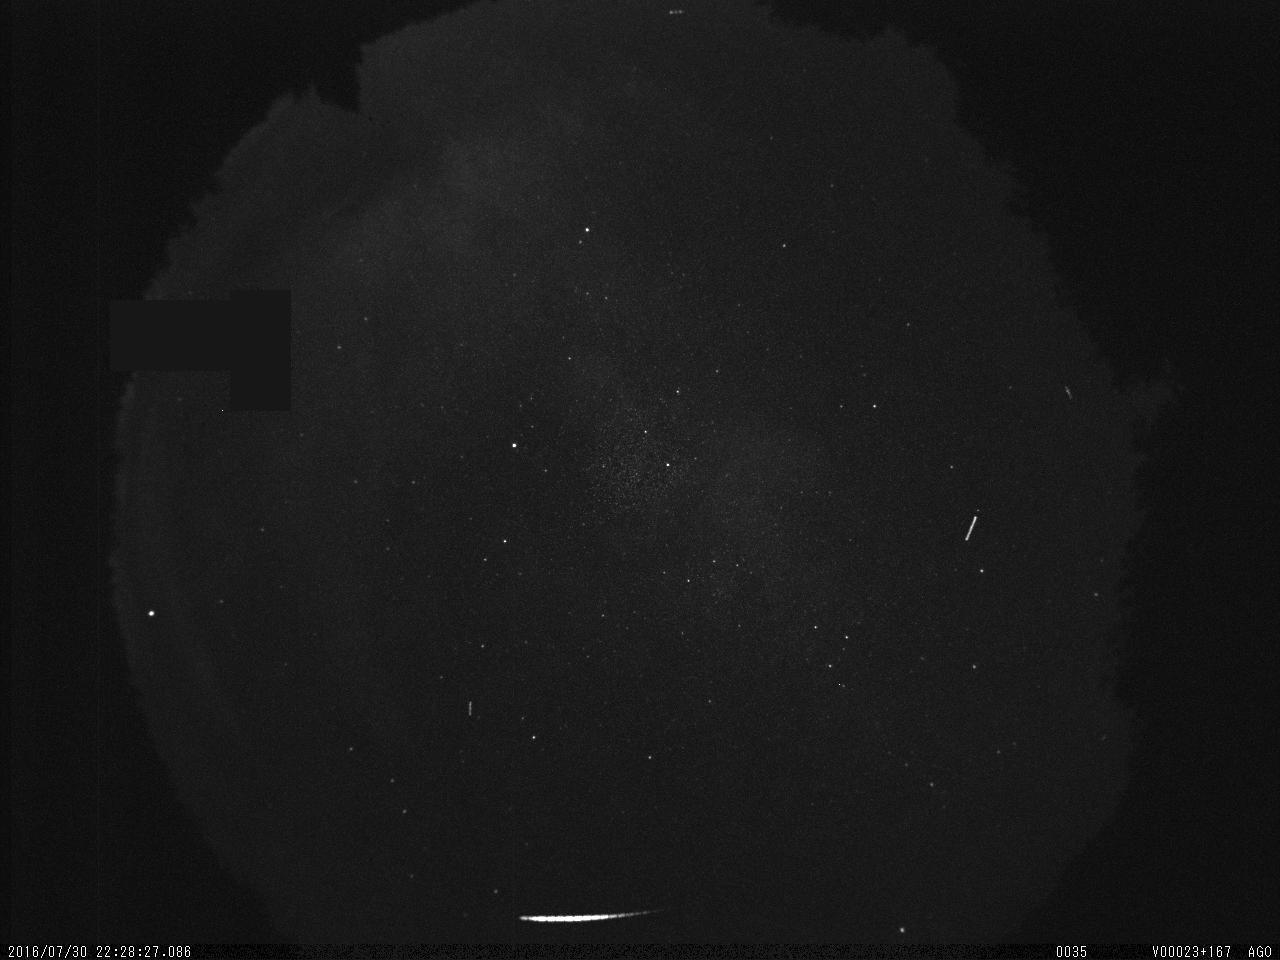meteor: (513, 904, 679, 938)
satelite: (956, 509, 984, 549)
